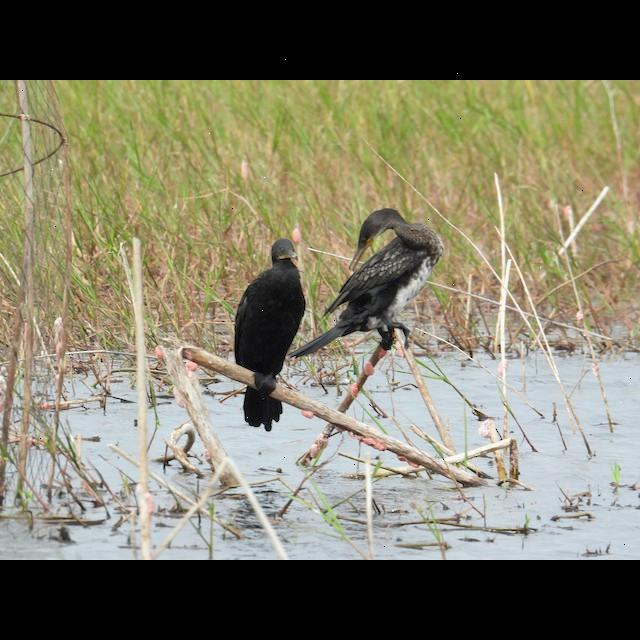cormorant: (301, 205, 447, 363), (230, 235, 304, 431)
